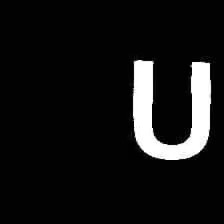LTR_U: (119, 50, 217, 165)
